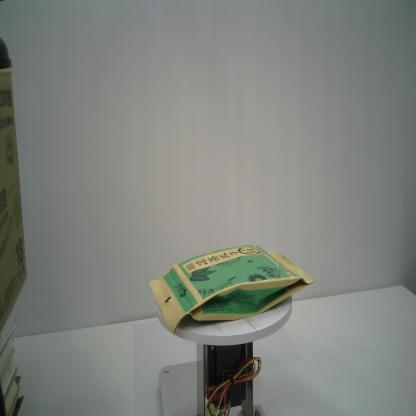Dried Food: (148, 242, 316, 336)
